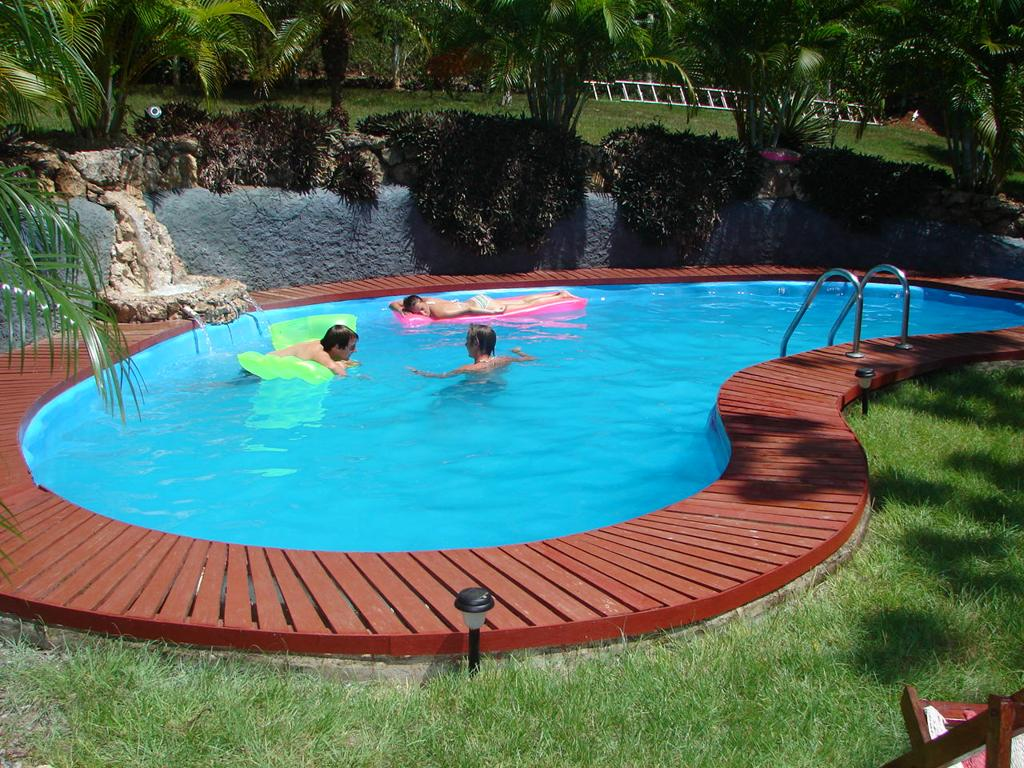face: (338, 335, 356, 359), (412, 301, 431, 317), (464, 332, 474, 357)
